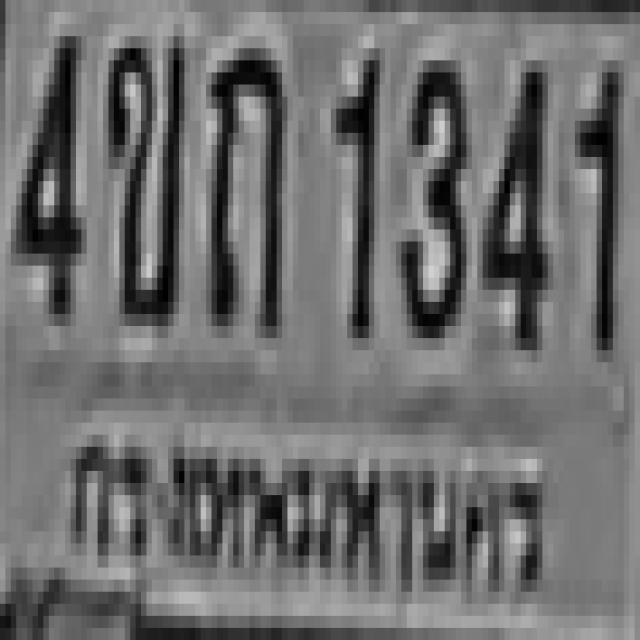1: (575, 54, 618, 344), (331, 48, 374, 326)
11KhorKhai: (103, 24, 179, 314)
3: (396, 48, 461, 326)
31ThorThung: (201, 36, 282, 326)
4: (11, 24, 76, 314), (478, 48, 542, 338)
Bangkok: (63, 415, 554, 605)
